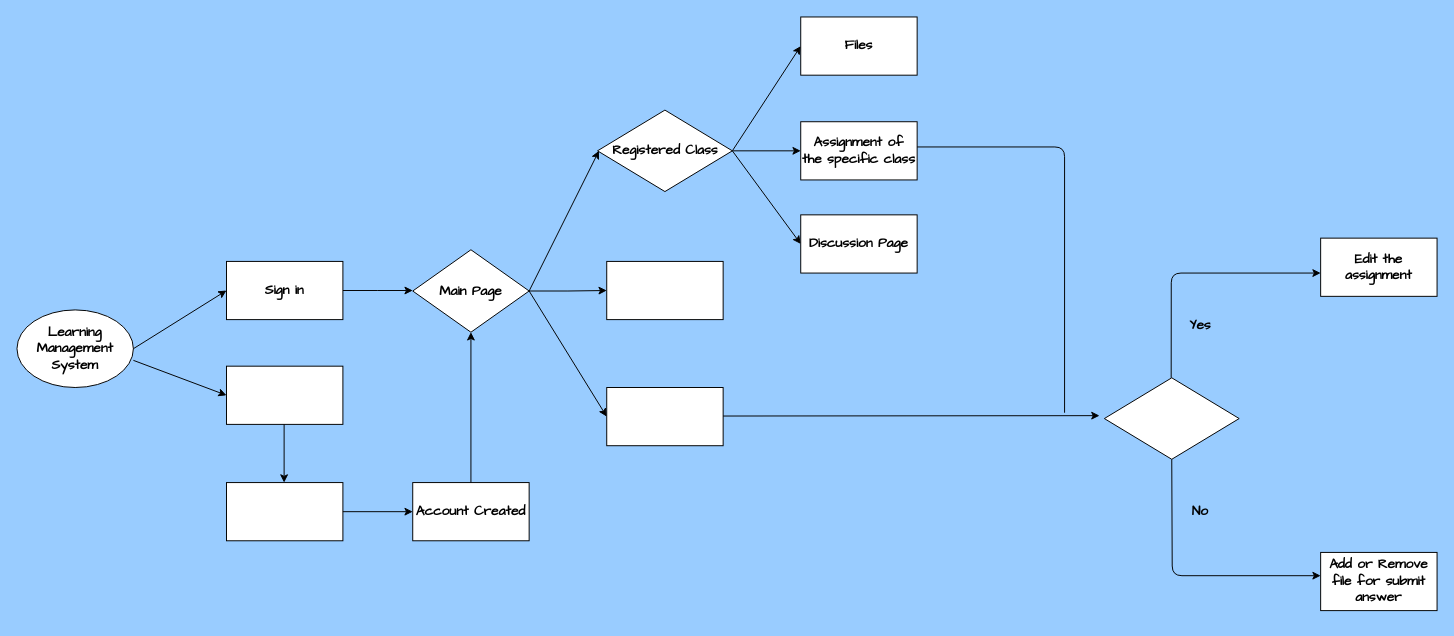
Image size: 1454x636. Some labels were removed from this diagram. Each missing label, with the centre of its shape:
"Assignment of all classes" goes at pixel 664 416.
"Create Class and Join Class" goes at pixel 664 290.
"Role Teacher" goes at pixel 1171 418.
"Sign up" goes at pixel 284 394.
"Sign up page" goes at pixel 284 511.
